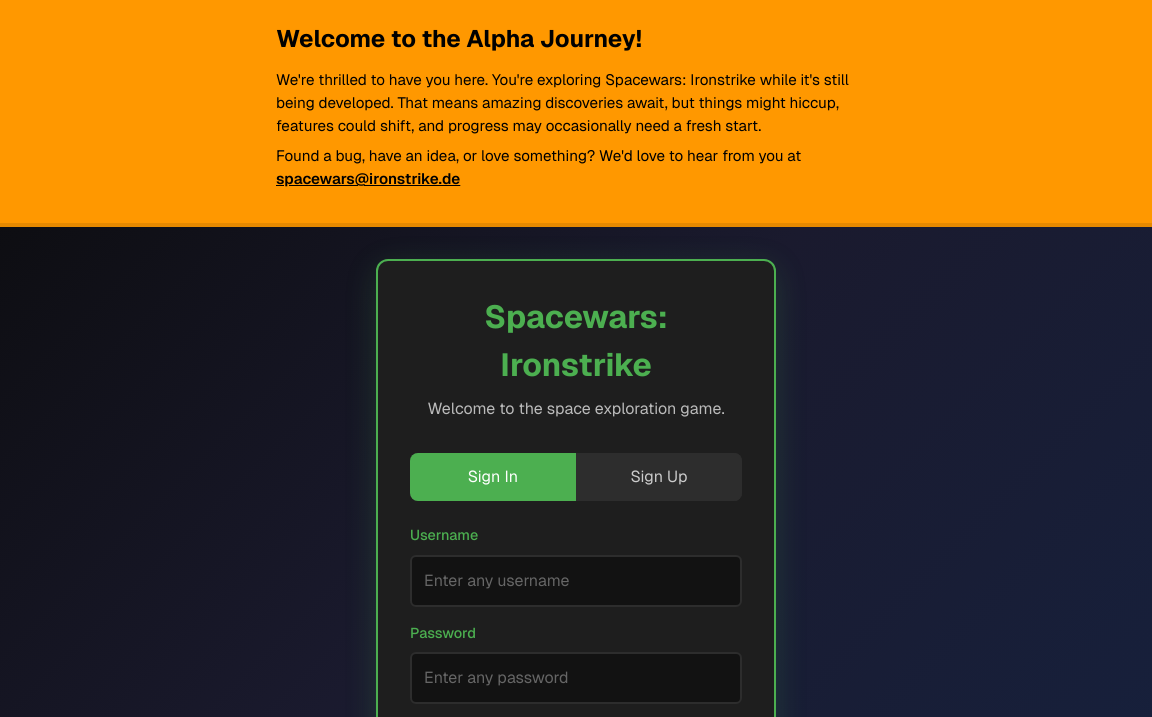
Test: LoginPageComponent — registration emailSent behaviour › emailSent_true_showsVerificationMessageBeforeRedirect
This screenshot has width=1152, height=717.
Click the button "Sign Up" at [659, 477], box [576,453,742,501]
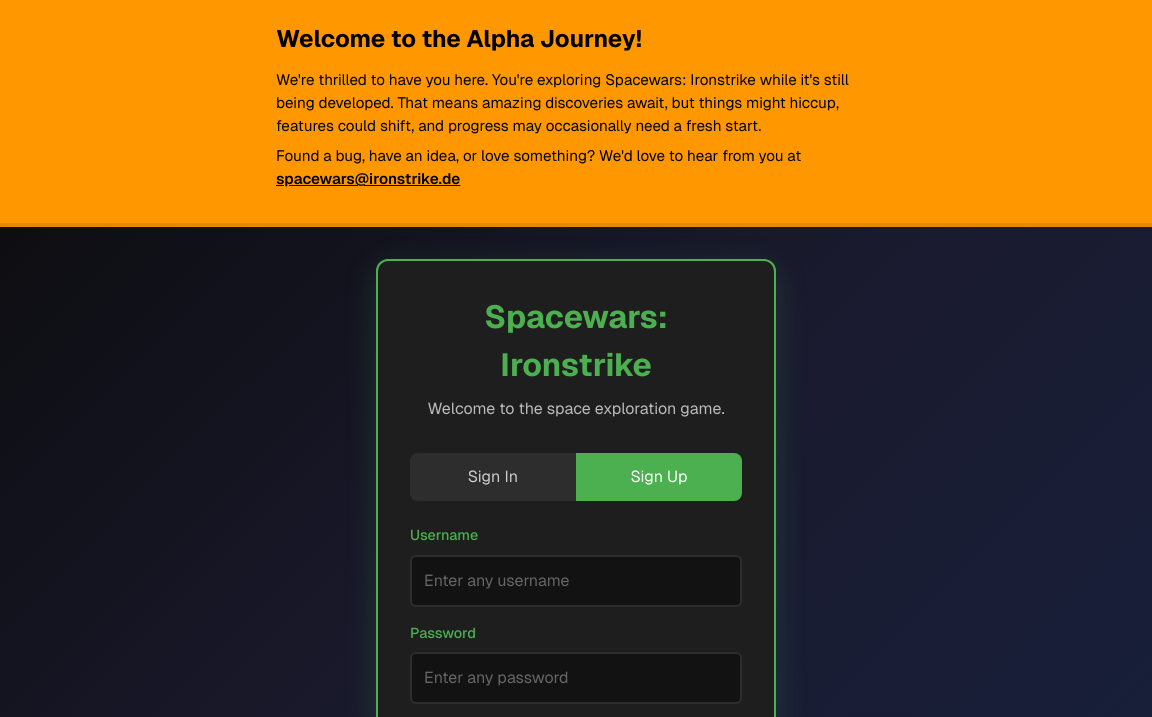
Type "newuser" into the field labelled "Username" at [576, 581], box [410,555,742,607]
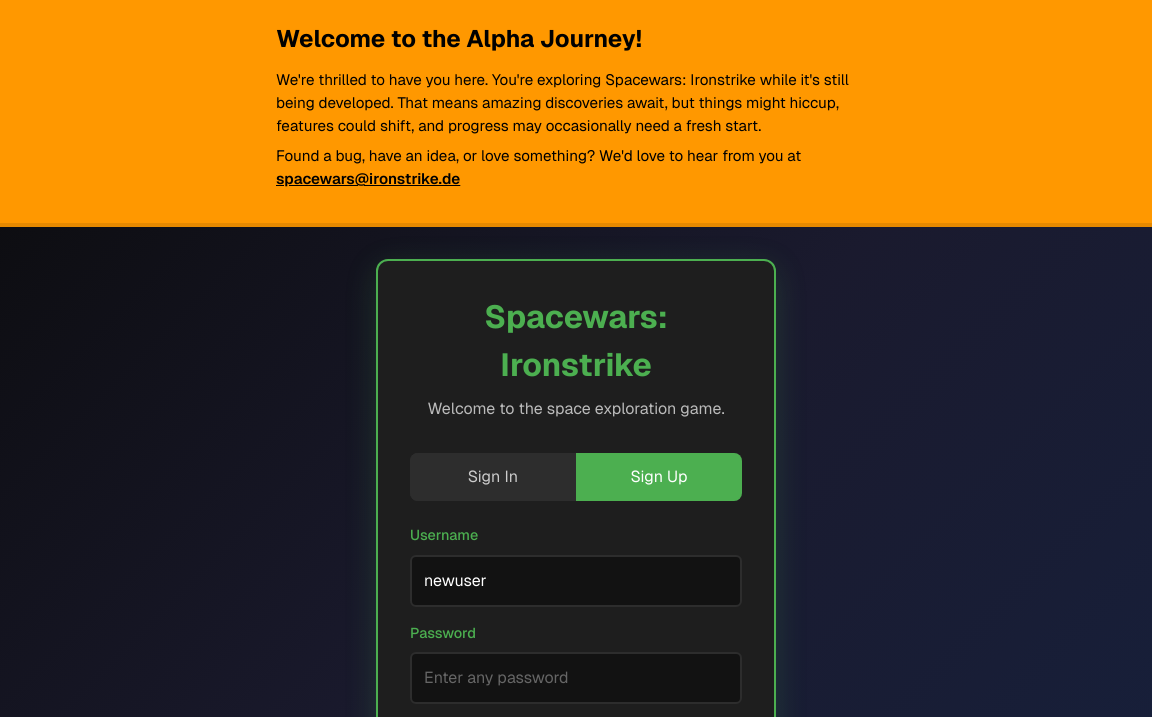
Type "password123" into the password field labelled "Password" at [576, 678], box [410,652,742,704]
(page scrolled)
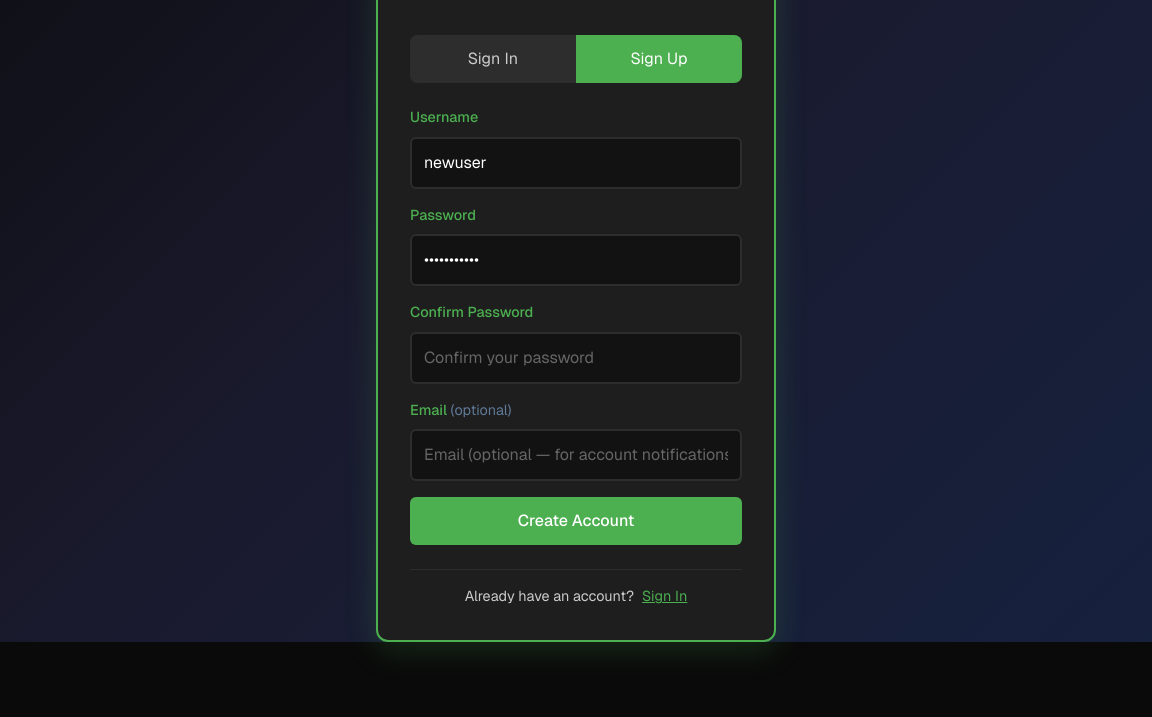
Type "password123" into the password field labelled "Confirm Password" at [576, 358], box [410,332,742,384]
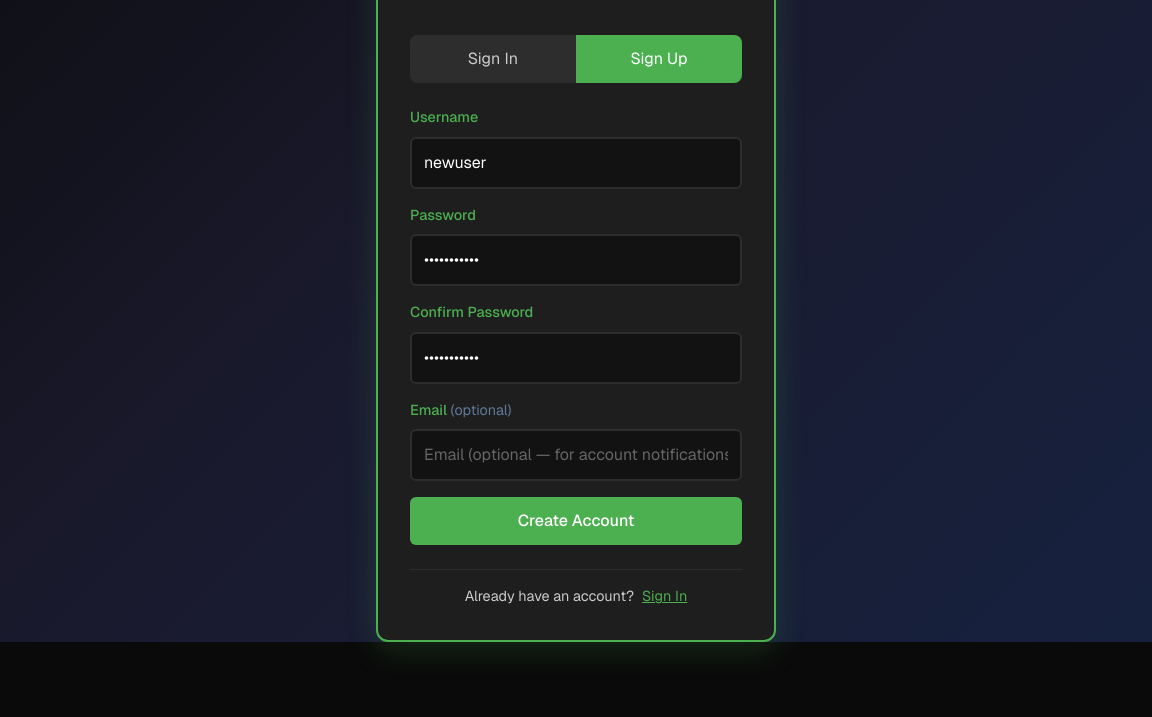
Type "test@example.com" into the field labelled "Email (optional)" at [576, 455], box [410,429,742,481]
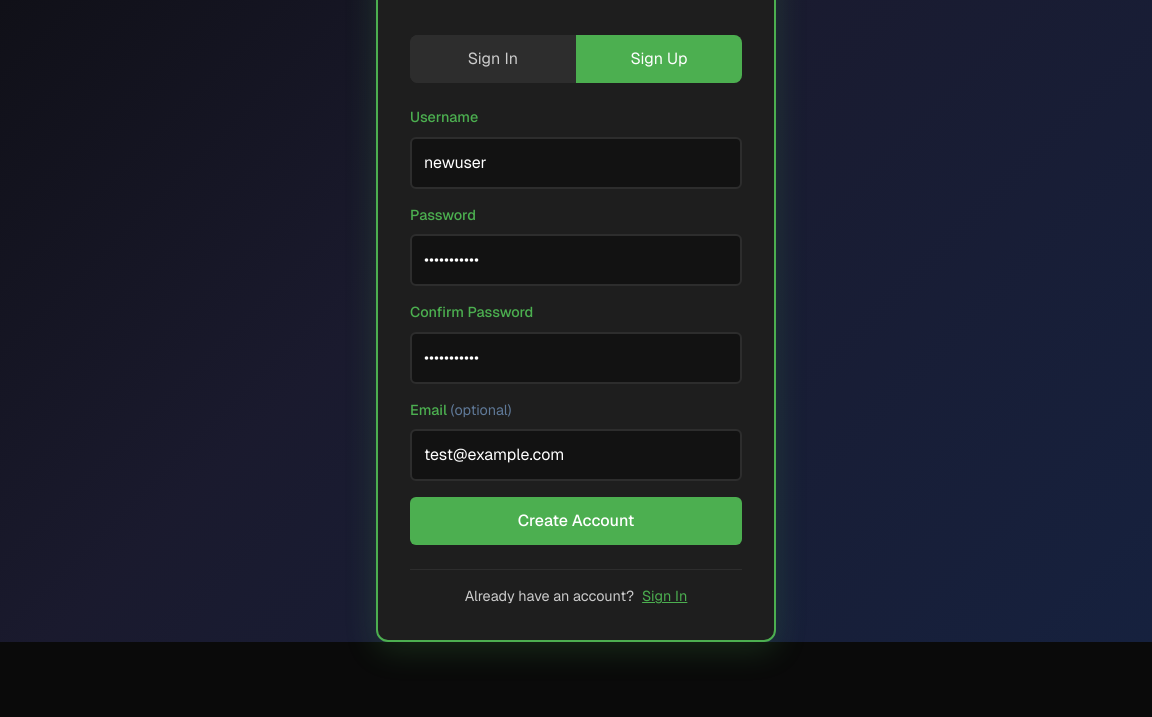
Click the button "Create Account" at [576, 521], box [410,497,742,545]
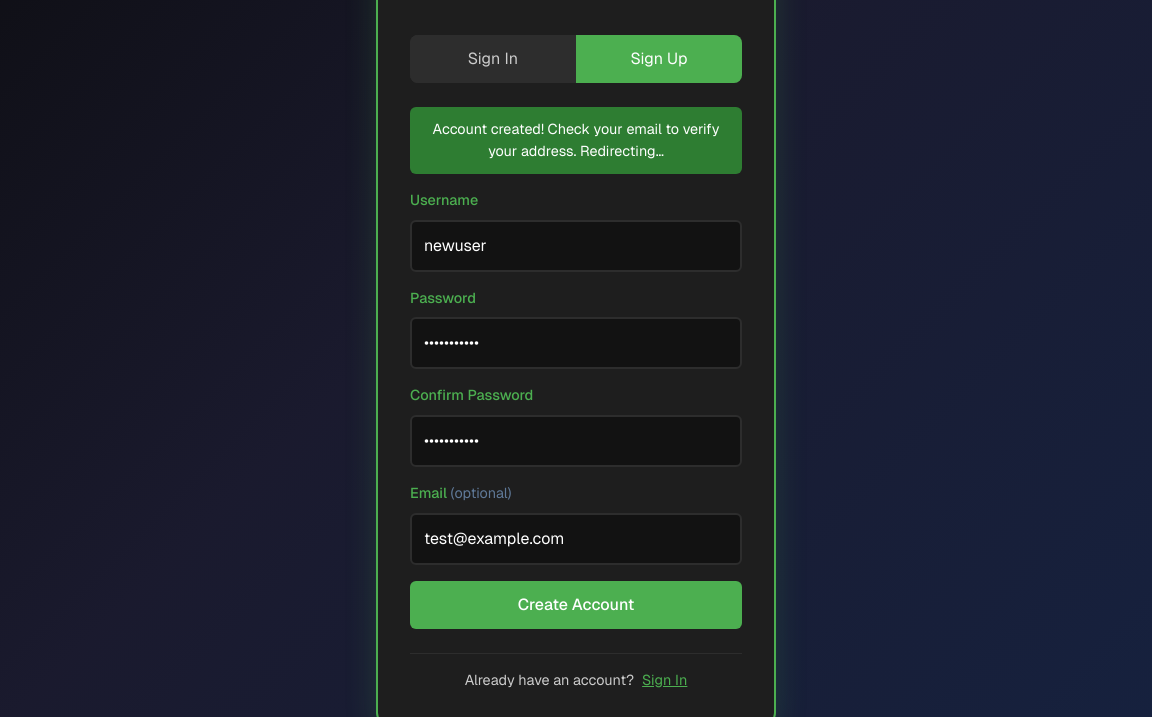
Expected: the text "Check your email" is shown, [433,120,719,160]
